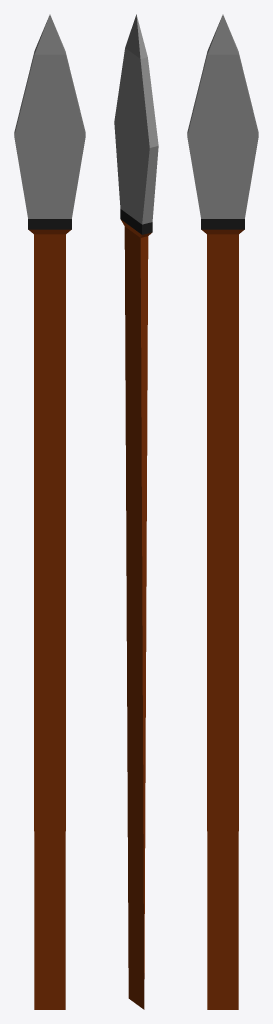
File: spear.obj
3 views of the same model, side by side, from view 1: azimuth 90°, elevation 25°; view 2: azimuth 210°, elevation 25°; view 3: azimuth 270°, elevation 25° (orthographic).
Visible parts, largest first — view 1: spear; view 2: spear; view 3: spear.
Boxes of the visible parts, x1,y1,x2,y2 form: spear: [14, 14, 85, 1009]; spear: [114, 14, 158, 1009]; spear: [187, 14, 258, 1009].
Size of the model in its own units: 0.0103 by 0.935 by 0.0607.
